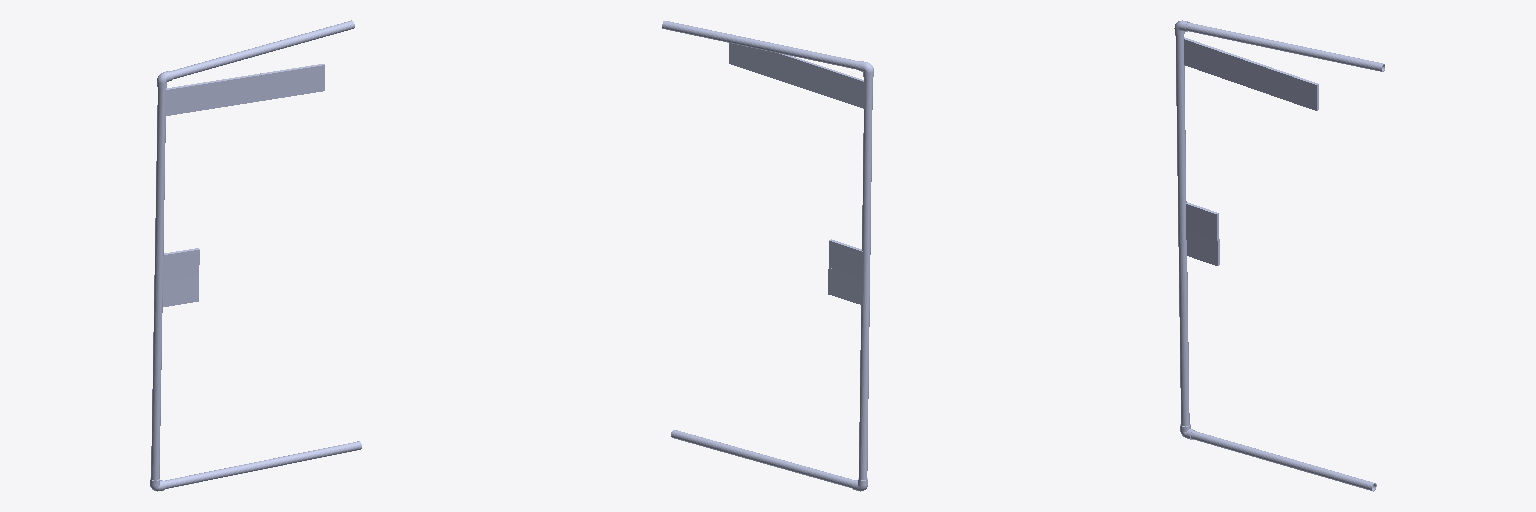
robot.urdf — gate:
<robot
  name="gate">
  <link
    name="gate">
    <inertial>
      <origin
        xyz="1.5005E-07 -0.97612 -0.52269"
        rpy="0 0 0" />
      <mass
        value="6.1039" />
      <inertia
        ixx="2.97205828183005"
        ixy="-5.96332505457148E-08"
        ixz="-3.9578228645324E-07"
        iyy="2.10863329329738"
        iyz="-0.795459454826337"
        izz="0.865396659359463" />
    </inertial>
    <visual>
      <origin
        xyz="0 0 0"
        rpy="1.5707963267949 0 0" />
      <geometry>
        <mesh
          filename="package://gate/meshes/gate.obj" />
      </geometry>
      <material
        name="">
        <color
          rgba="0.79216 0.81961 0.93333 1" />
      </material>
    </visual>
    <collision>
      <origin
        xyz="0 0 0"
        rpy="1.5707963267949 0 0" />
      <geometry>
        <mesh
          filename="package://gate/meshes/gate.onj" />
      </geometry>
    </collision>
  </link>
  <gazebo reference="gate">
    <material>Gazebo/Red</material>
  </gazebo>
  <gazebo>
    <static>true</static>
  </gazebo>
</robot>

--- Facts derived from the render (not from the file) ---
Views: 3 orthographic renders of the robot side by side, from view 1: azimuth 30°, elevation 25°; view 2: azimuth 150°, elevation 25°; view 3: azimuth 330°, elevation 25°.
Model gate with 1 links and 0 joints (none), rooted at gate, posed every joint at zero.
Links seen in each view (by area): view 1: gate; view 2: gate; view 3: gate.
Link boxes in pixels (box(x1,y1,x2,y2)): gate: box(150, 20, 361, 491); gate: box(662, 21, 873, 491); gate: box(1174, 20, 1384, 491).
Bounding box of the posed robot: 64.11 × 12.13 × 128 m (x, y, z).
1 mesh visuals loaded from 1 distinct referenced files (1 OBJ).